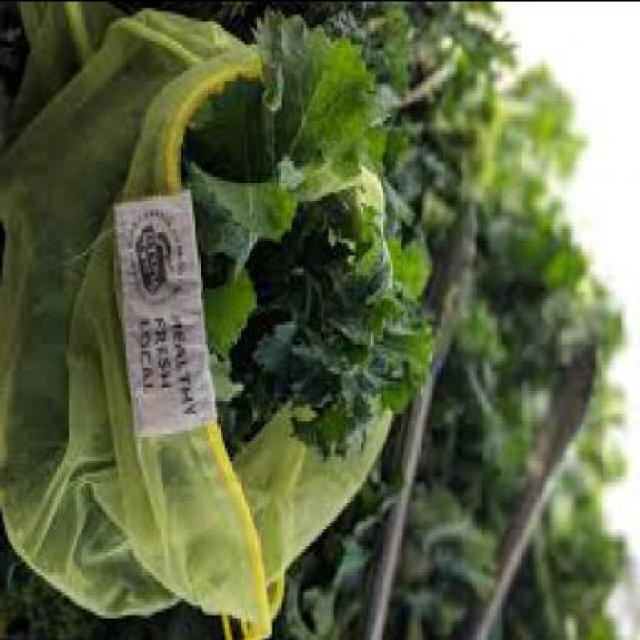BIODEGRADABLE: (278, 66, 636, 637), (243, 2, 520, 270), (210, 184, 442, 456), (185, 7, 413, 261)
